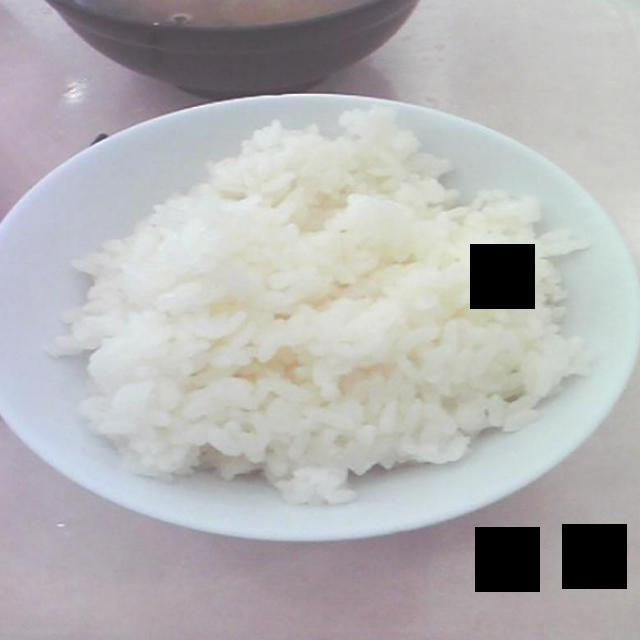rice: (55, 103, 595, 506)
